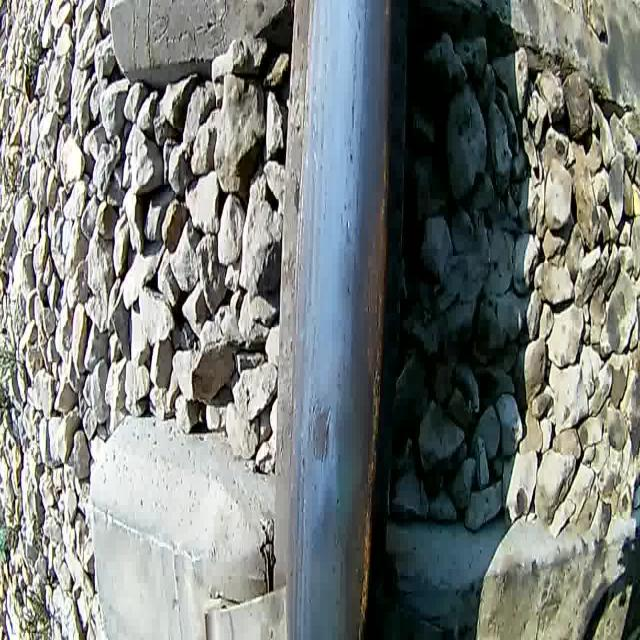Cracks: (321, 400, 333, 471)
Squats: (305, 397, 336, 471)
